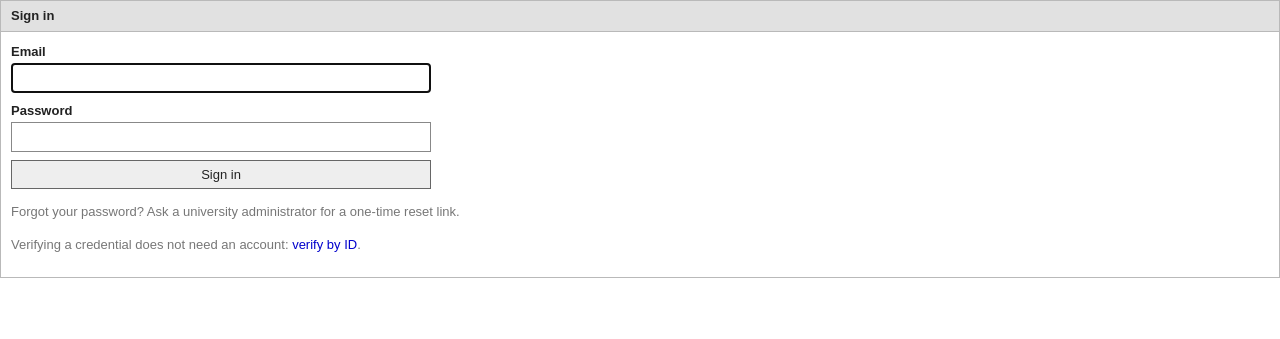
Scenario: Login › returns to the password step when the interim sign-in has expired
In the field labelled "Email": (221, 78) [11,63,431,92], type "a@u.edu"
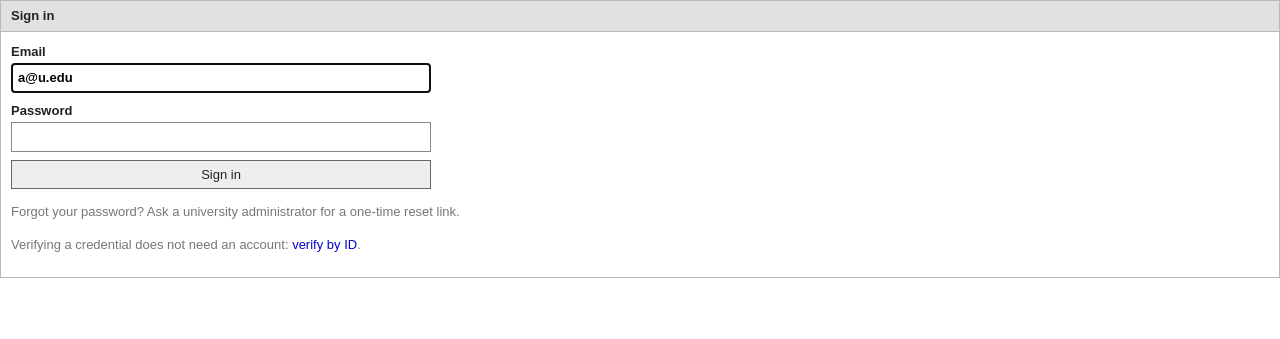
In the password field labelled "Password": (221, 137) [11,122,431,152], type "correct horse battery"
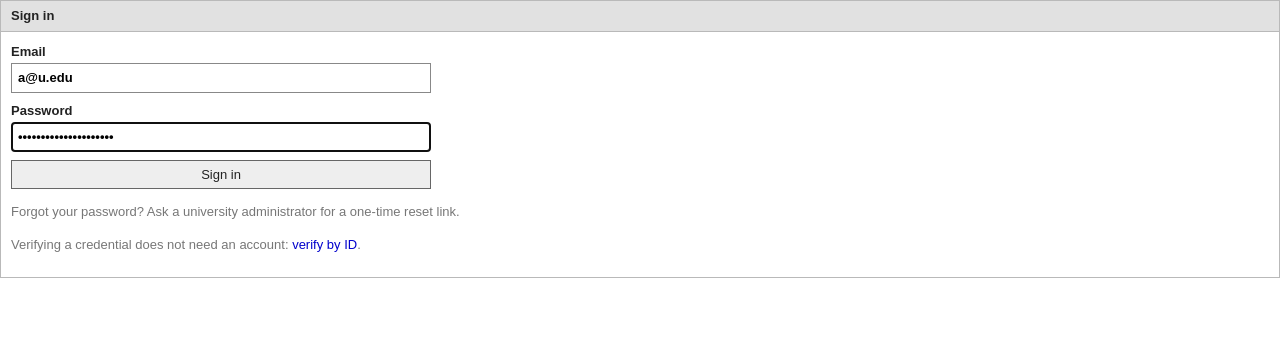
Click the button "Sign in": (221, 174) [11,160,431,189]
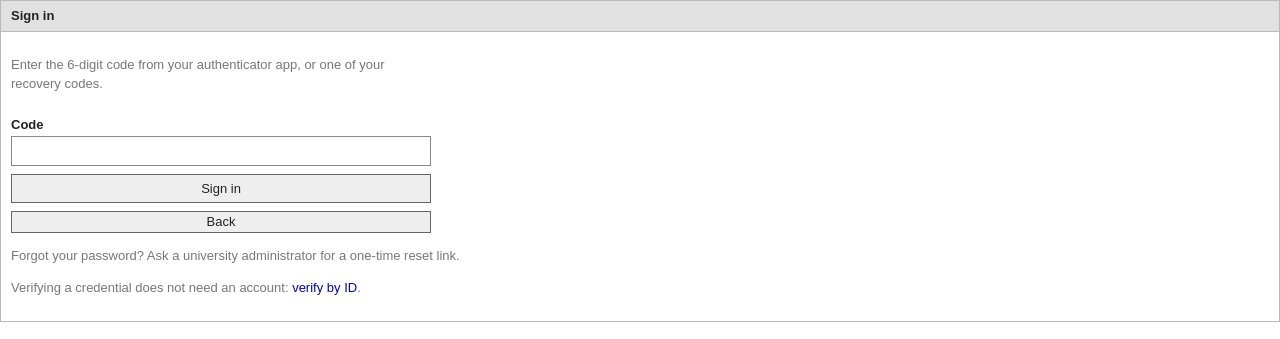
In the field labelled "Code": (221, 151) [11,136,431,166], type "000000"
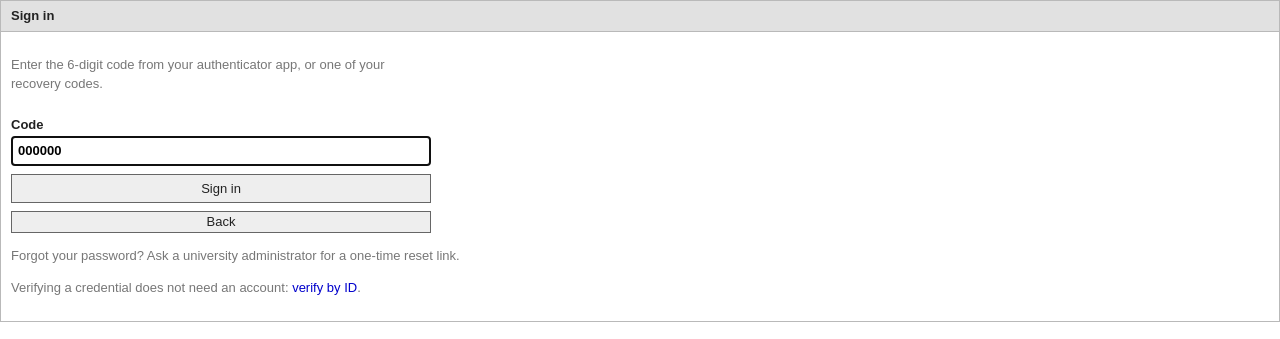
Click the button "Sign in": (221, 188) [11,174,431,203]
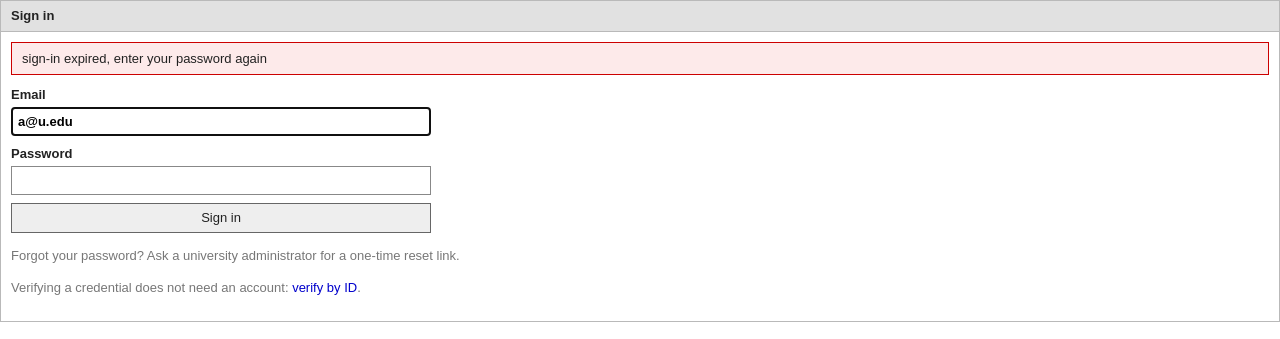
Expected: the text "sign-in expired, enter your password again" is shown, [11,42,1269,75]
Expected: the password field labelled "Password" is shown, [11,166,431,195]
